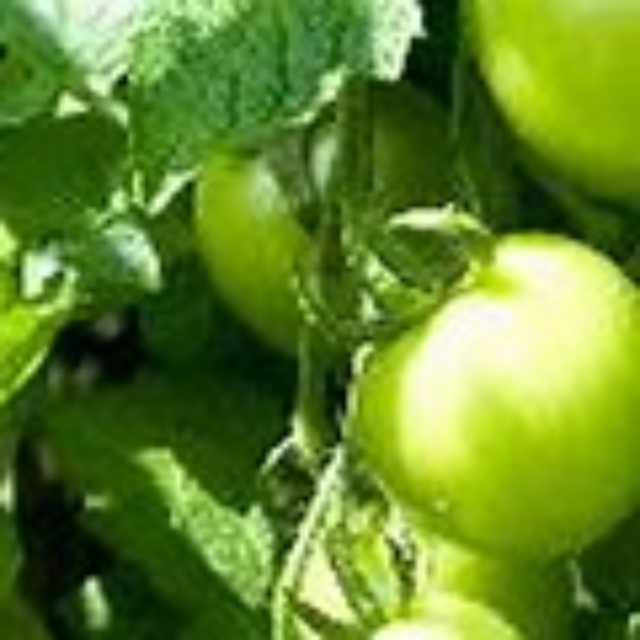tomato: (360, 240, 639, 537), (196, 84, 454, 360), (464, 2, 639, 210)
